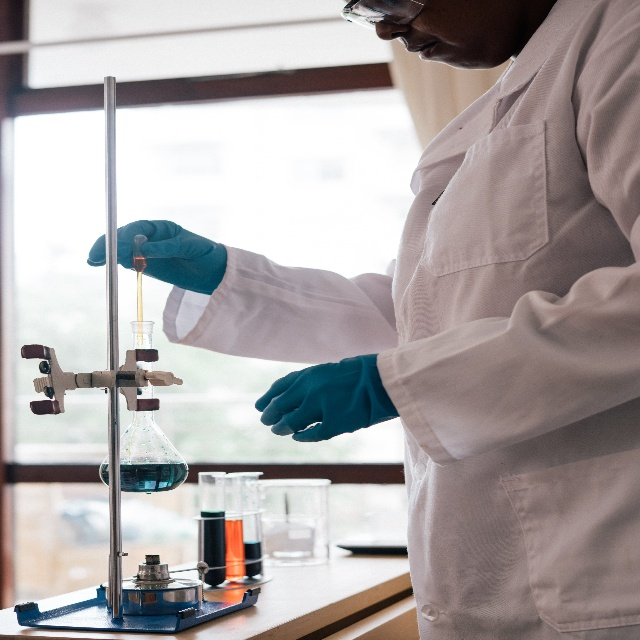Gafas: (341, 0, 427, 33)
Guantes: (254, 354, 400, 443), (86, 219, 226, 295)
